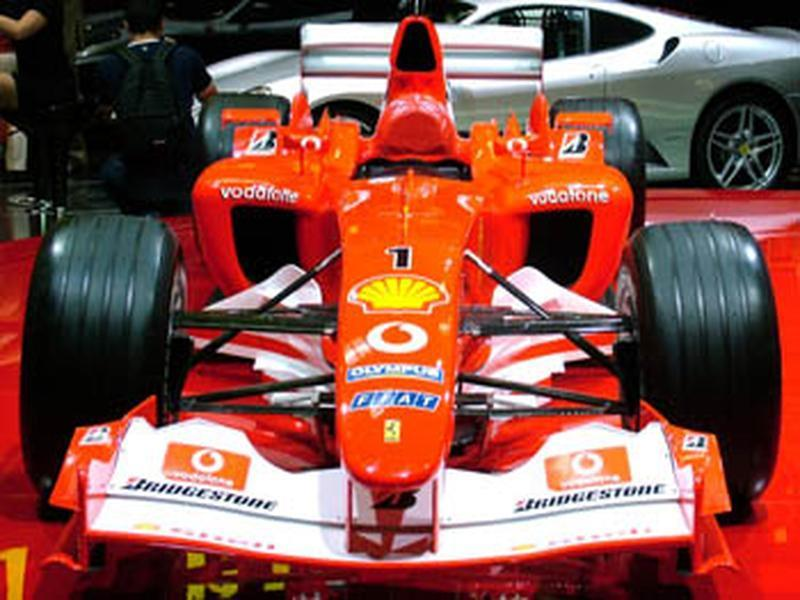f1: (20, 46, 791, 567)
